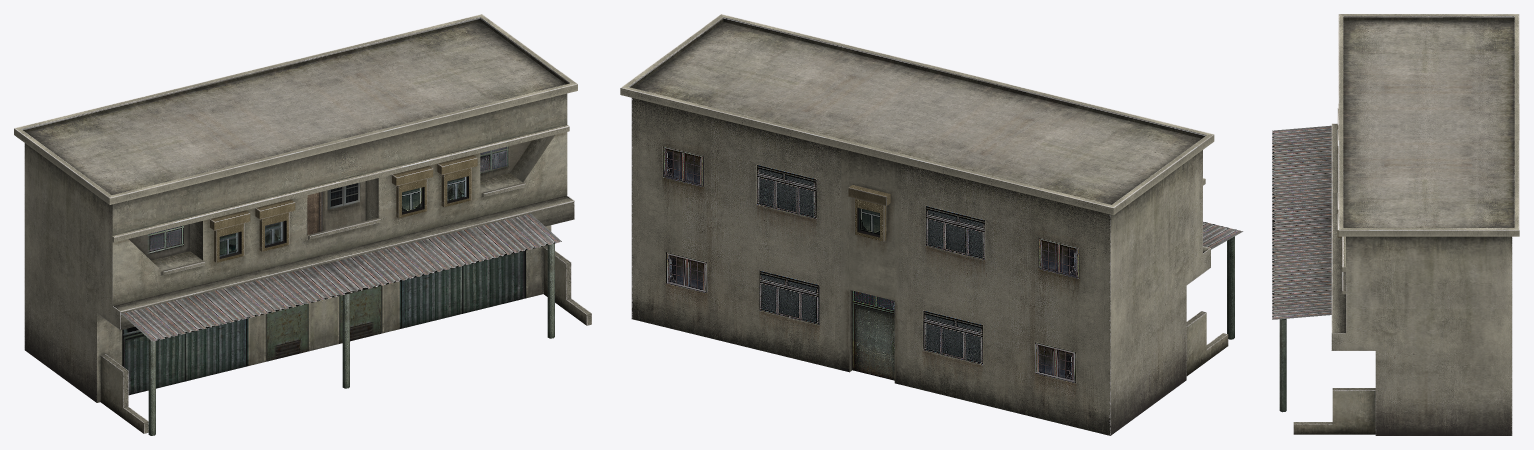
File: buildings_17.FBX
The picture shows the model from 3 angles, left to right: view 1: azimuth 30°, elevation 25°; view 2: azimuth 150°, elevation 25°; view 3: azimuth 270°, elevation 25°; orthographic projection. The views are drawn at different scales.
Parts seen in each view (by area): view 1: Object001; view 2: Object001; view 3: Object001.
Part boxes in pixels (x1=…): Object001: x1=14, y1=14, x2=591, y2=435; Object001: x1=620, y1=14, x2=1242, y2=435; Object001: x1=1272, y1=14, x2=1519, y2=435.
Bounding box in the file's own units: 1878 × 909 × 847.
Materials: 1 (1 with a texture image).
